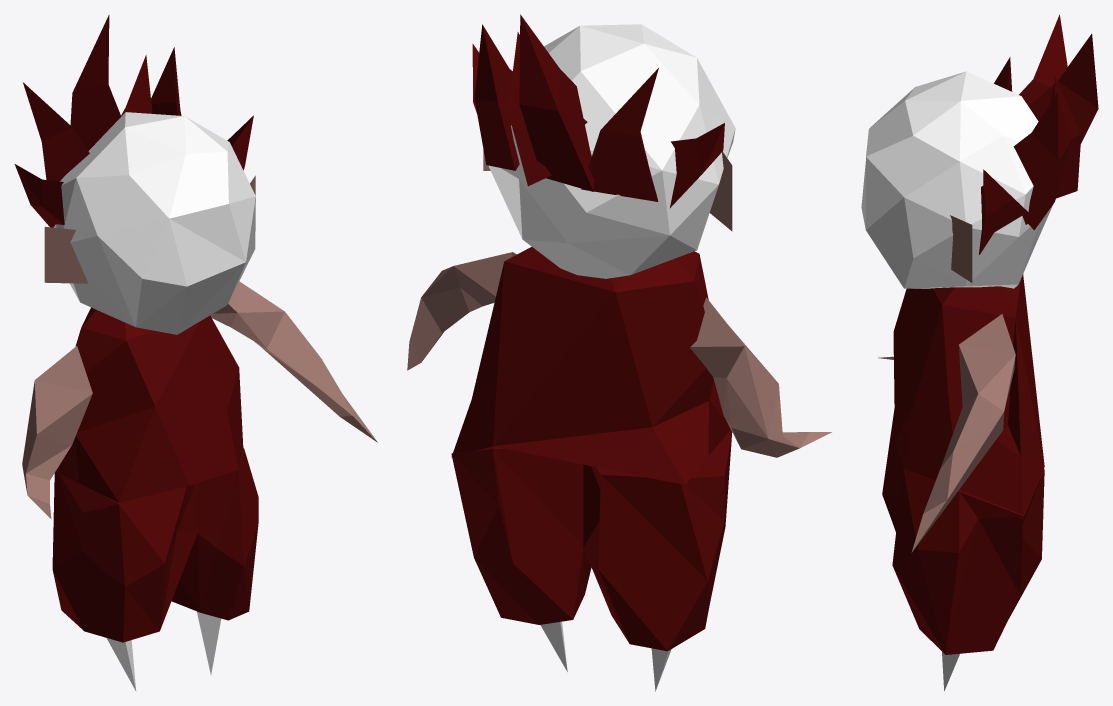
The model's file is CrazyK.FBX.
3 views of the same model, side by side, from view 1: azimuth 30°, elevation 25°; view 2: azimuth 150°, elevation 25°; view 3: azimuth 270°, elevation 25° (orthographic). The views are drawn at different scales.
Parts seen in each view (by area): view 1: CrazyK; view 2: CrazyK; view 3: CrazyK.
Boxes of the visible parts, box(x1,y1,x2,y2) form: CrazyK: box(14, 14, 377, 691); CrazyK: box(407, 14, 831, 691); CrazyK: box(861, 14, 1098, 690).
Bounding box in the file's own units: 29.43 × 16.88 × 50.52.
